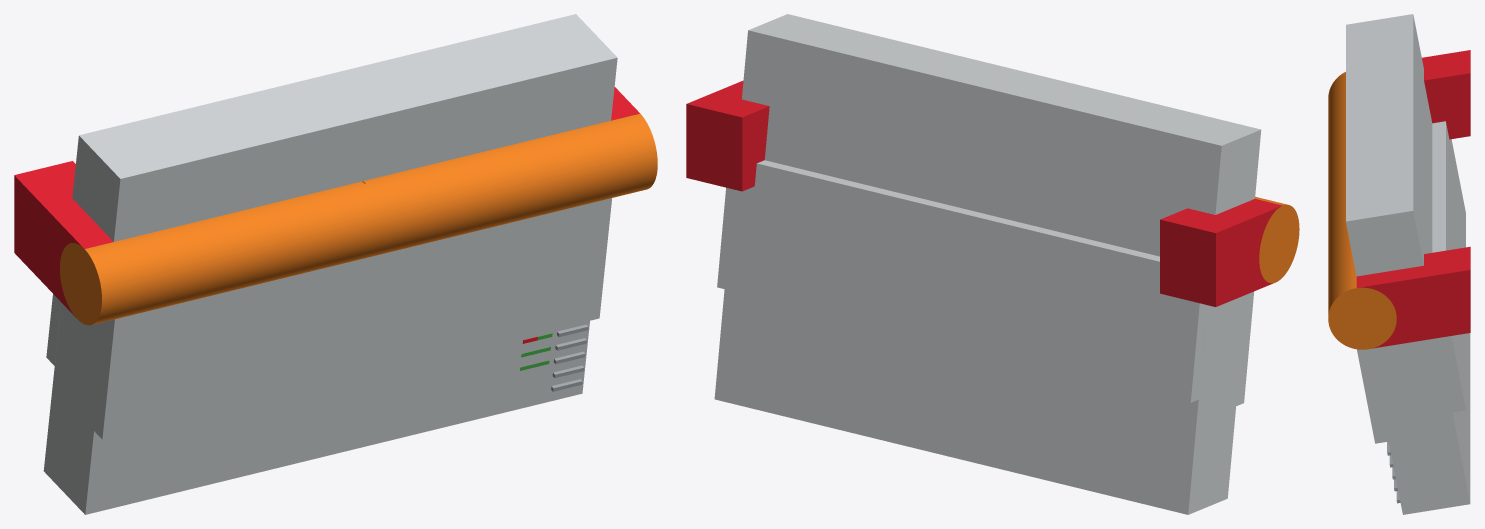
File: ImageWriterII.obj
The picture shows the model from 3 angles, left to right: view 1: azimuth 30°, elevation 25°; view 2: azimuth 150°, elevation 25°; view 3: azimuth 270°, elevation 25°; orthographic projection. The views are drawn at different scales.
Parts seen in each view (by area): view 1: group_0_14541540, group_0_16089887, group_0_15277357, group_0_10988977; view 2: group_0_14541540, group_0_15277357, group_0_16089887; view 3: group_0_14541540, group_0_15277357, group_0_16089887, group_0_10988977.
Part boxes in pixels (x1,y1,x2,y2): group_0_14541540: [43, 14, 617, 514]; group_0_16089887: [60, 113, 657, 325]; group_0_15277357: [14, 87, 639, 343]; group_0_10988977: [551, 324, 588, 391]; group_0_14541540: [714, 14, 1261, 514]; group_0_15277357: [686, 80, 1282, 306]; group_0_16089887: [1255, 197, 1299, 283]; group_0_14541540: [1346, 14, 1470, 514]; group_0_15277357: [1356, 50, 1470, 348]; group_0_16089887: [1328, 72, 1396, 349]; group_0_10988977: [1387, 441, 1400, 503].
Size of the model in its own units: 483 by 311 by 132.
